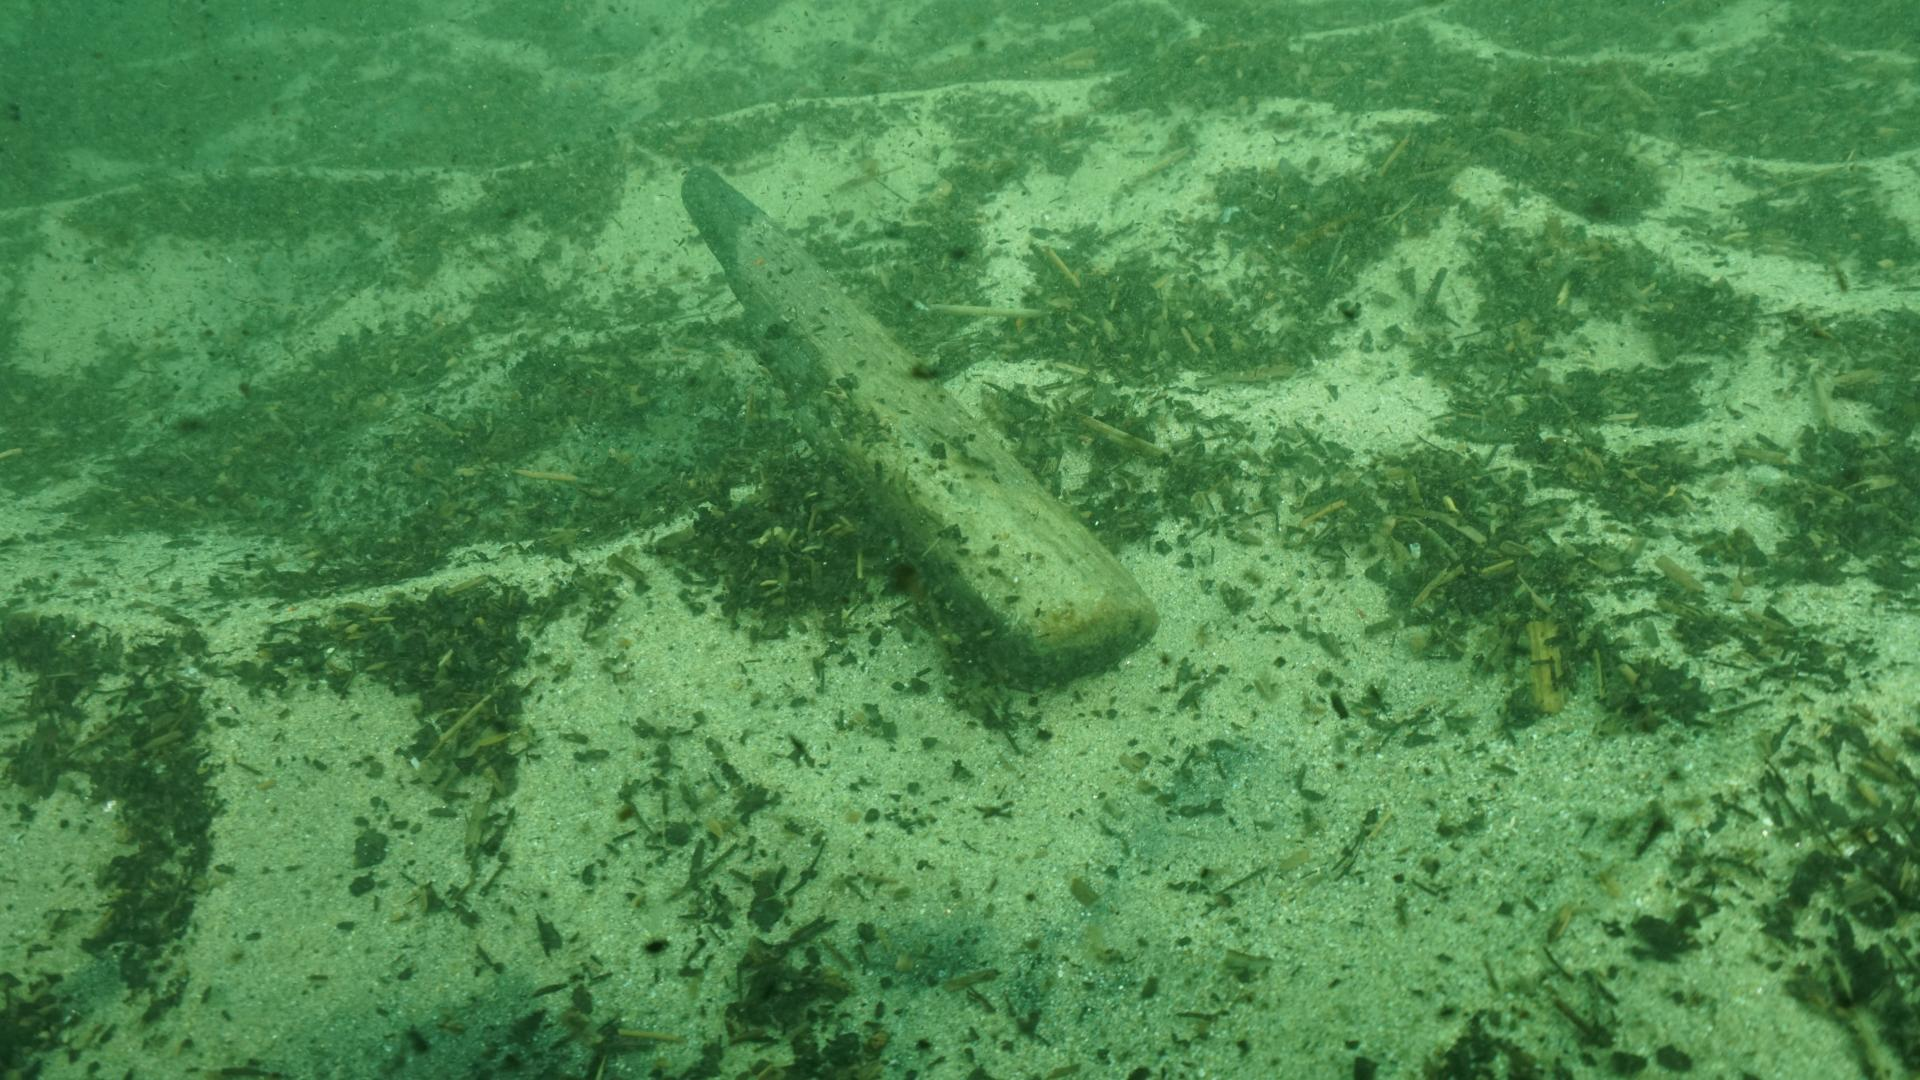wood: (674, 152, 1159, 690)
